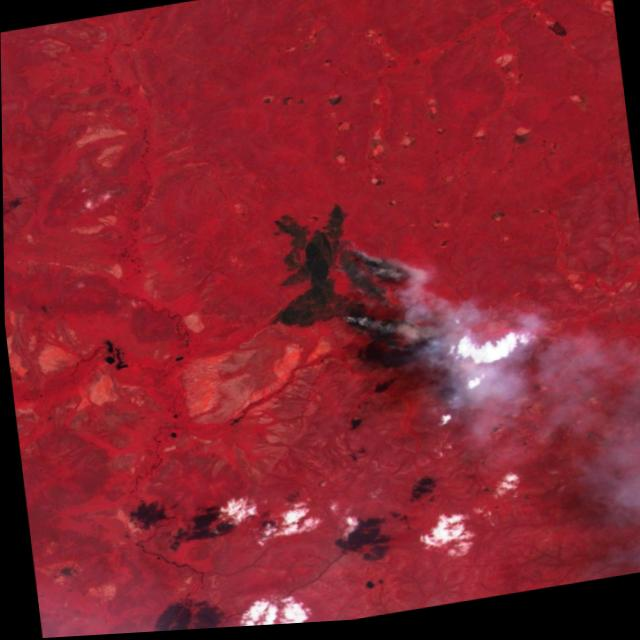fire: (322, 226, 436, 364)
